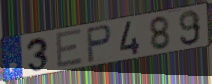3: (26, 35, 53, 75)
4: (118, 20, 141, 57)
8: (148, 15, 171, 51)
9: (178, 9, 203, 48)
E: (54, 28, 85, 71)
P: (85, 24, 113, 65)
